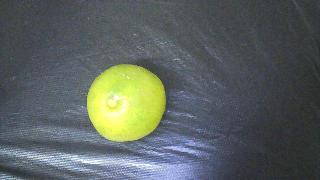LOCAL: (87, 64, 166, 142)
